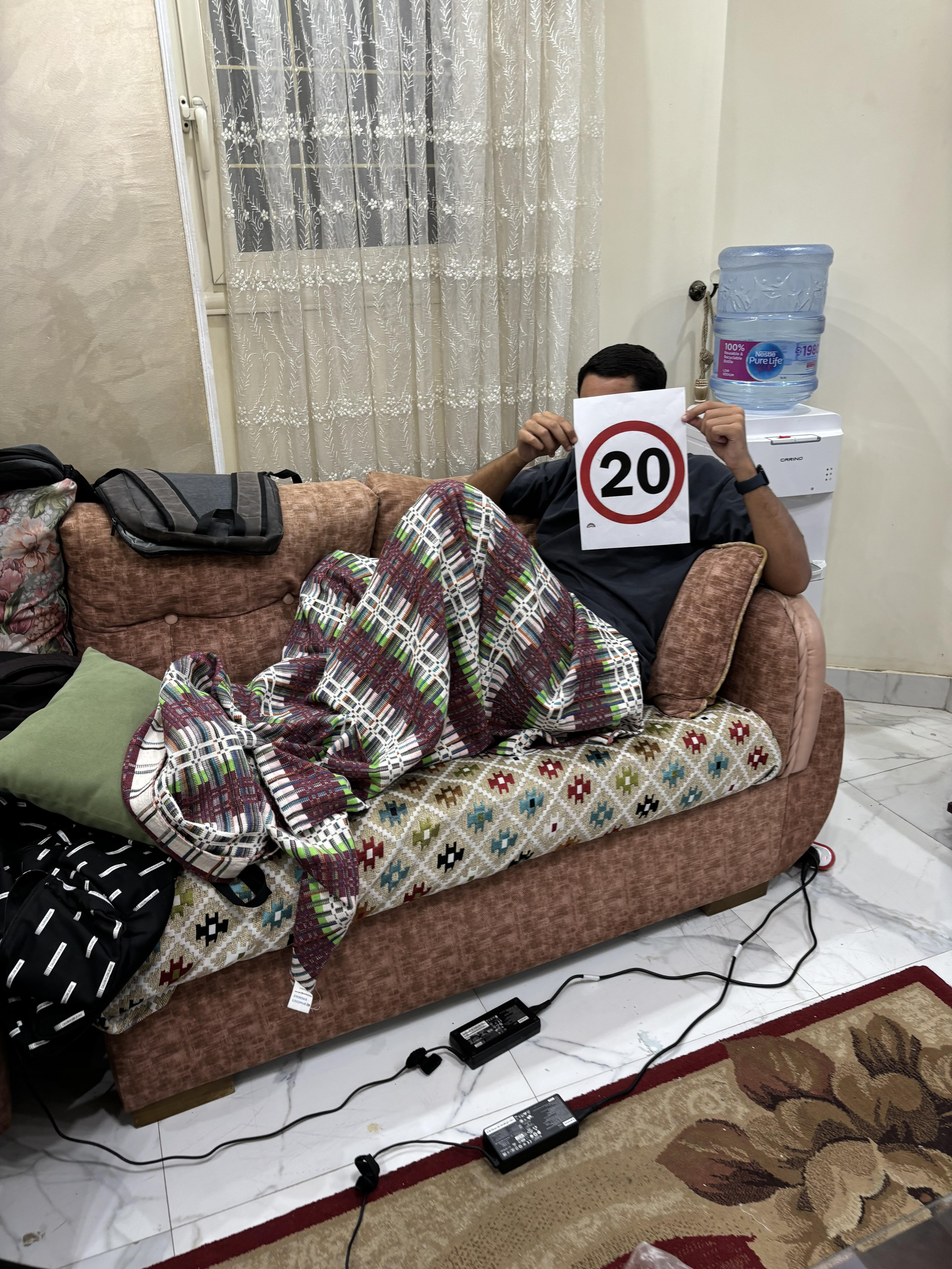20-Speed: (577, 416, 692, 525)
